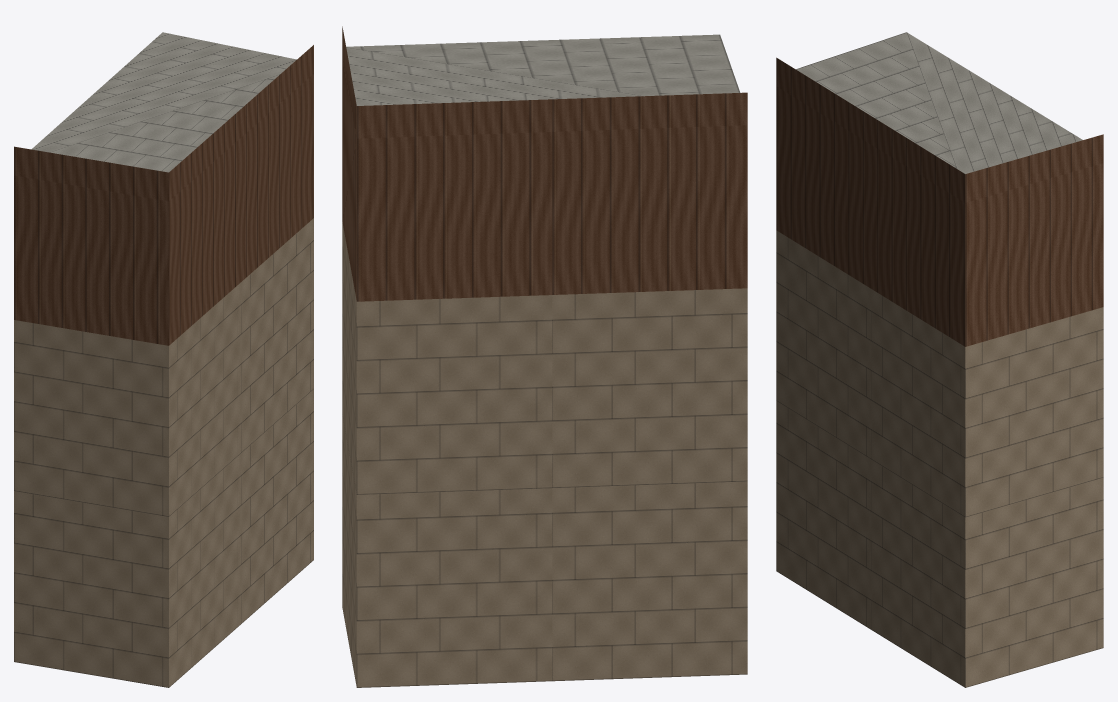
Rendered from bld_c19_31_369.gltf.
3 views of the same model, side by side, from view 1: azimuth 30°, elevation 25°; view 2: azimuth 150°, elevation 25°; view 3: azimuth 270°, elevation 25° (orthographic). The views are drawn at different scales.
Parts seen in each view (by area): view 1: bld_c19_31_369; view 2: bld_c19_31_369; view 3: bld_c19_31_369.
Boxes of the visible parts, left/top/right/bottom form: bld_c19_31_369: left=14, top=32, right=313, bottom=687; bld_c19_31_369: left=342, top=26, right=747, bottom=687; bld_c19_31_369: left=776, top=32, right=1103, bottom=687.
Size of the model in its own units: 4.53 by 6.78 by 3.91.
Materials: 4 (4 with a texture image).
